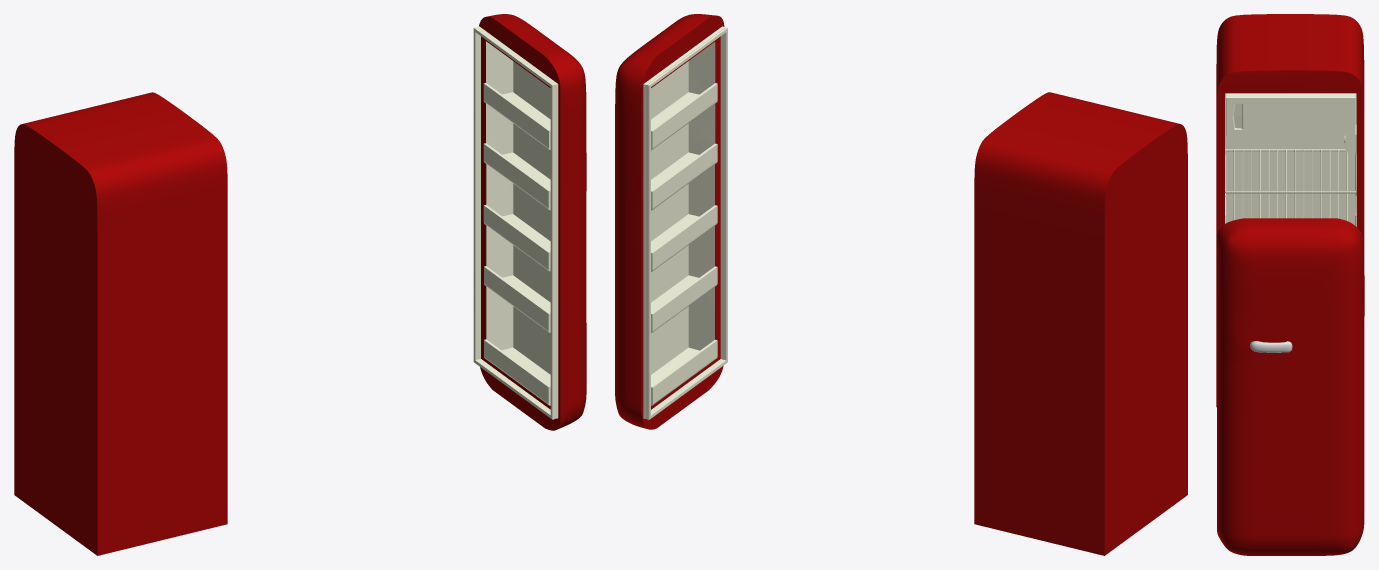
Rendered from fridgeDimensionsTest.fbx.
3 renders of one model, left to right at view 1: azimuth 30°, elevation 25°; view 2: azimuth 150°, elevation 25°; view 3: azimuth 270°, elevation 25°, orthographic. The views are drawn at different scales.
Parts seen in each view (by area): view 1: Fridge, Door, Door joint; view 2: Fridge, Door, Door joint; view 3: Door, Fridge, Freezer, grill.
Boxes of the visible parts, x1,y1,x2,y2 form: Fridge: [14, 92, 227, 555]; Door: [479, 14, 586, 430]; Door joint: [473, 26, 558, 419]; Fridge: [974, 92, 1187, 555]; Door: [615, 14, 724, 429]; Door joint: [643, 26, 727, 419]; Door: [1216, 218, 1364, 555]; Fridge: [1216, 14, 1364, 407]; Freezer: [1226, 93, 1355, 135]; grill: [1225, 149, 1356, 226].
Size of the model in its own units: 213 by 151 by 60.13.
